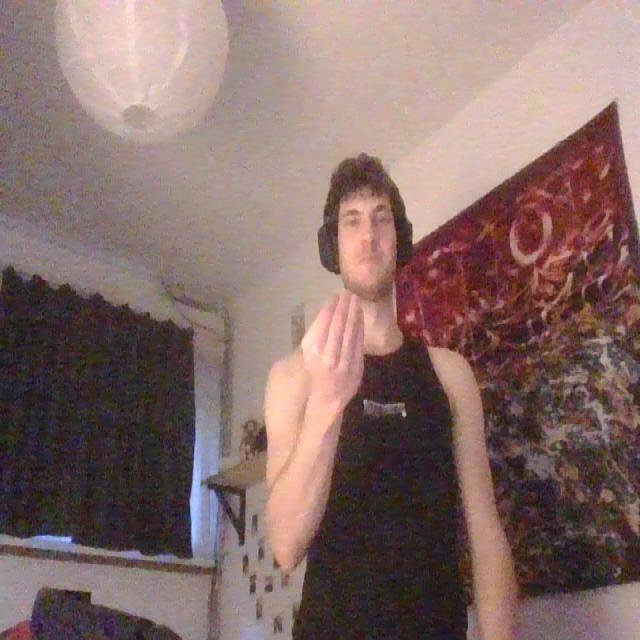forward: (296, 284, 370, 409)
